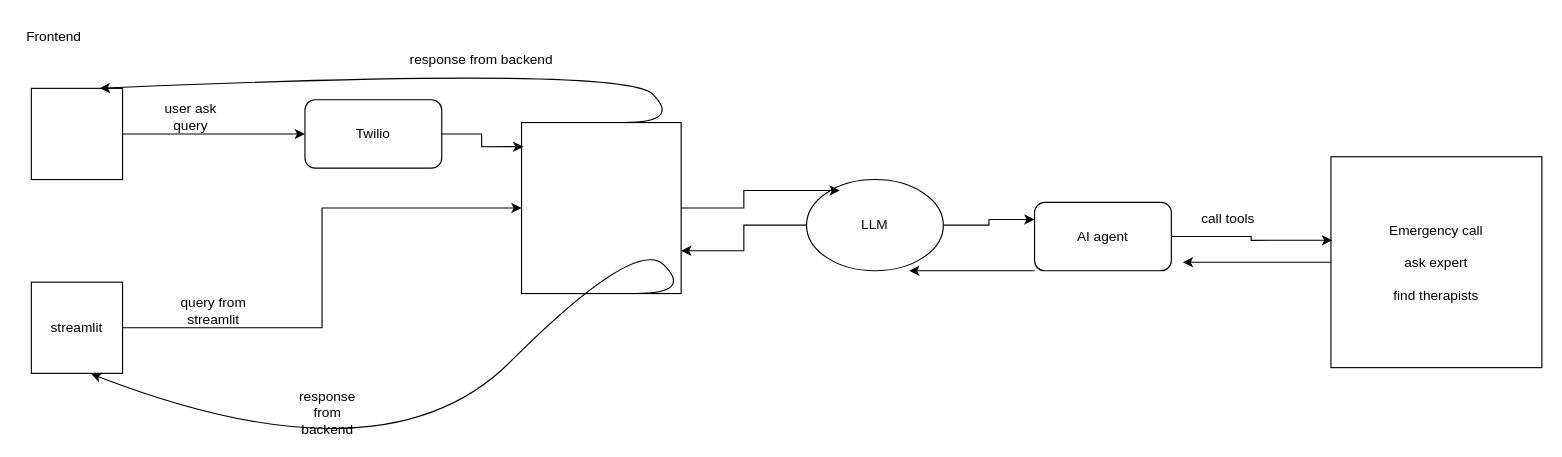
The diagram is 1562 pixels wide and 457 high, and some of its shapes have lost their labels. Each missing label, with the centre of its shape:
Backend FastAPI: (600,207)
Whatsapp: (76,133)
